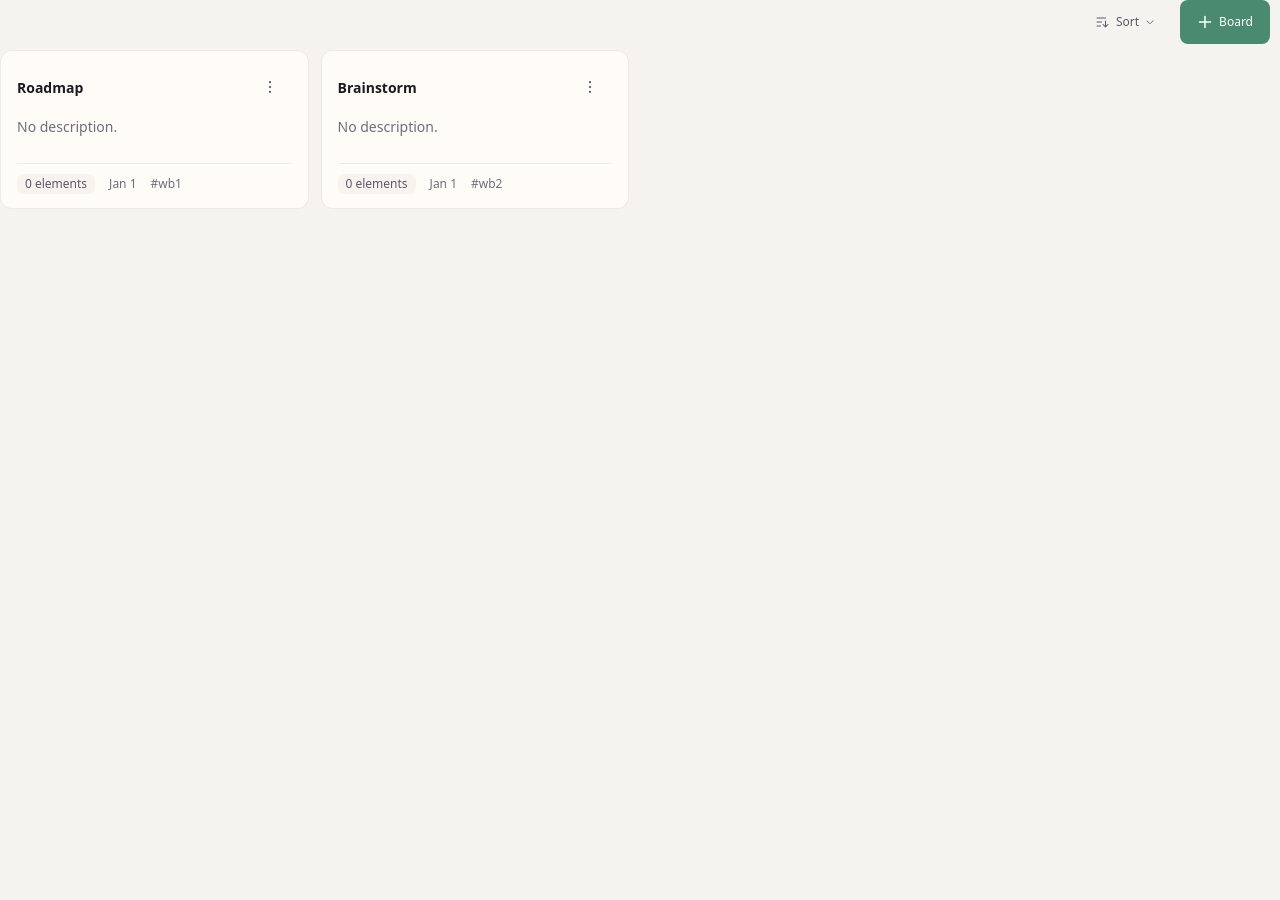
it: WhiteboardList narrow › kebab Edit opens the edit modal
The image size is (1280, 900).
Step 1. Click the button named "More actions for" → (270, 87), box [248,65,292,109]
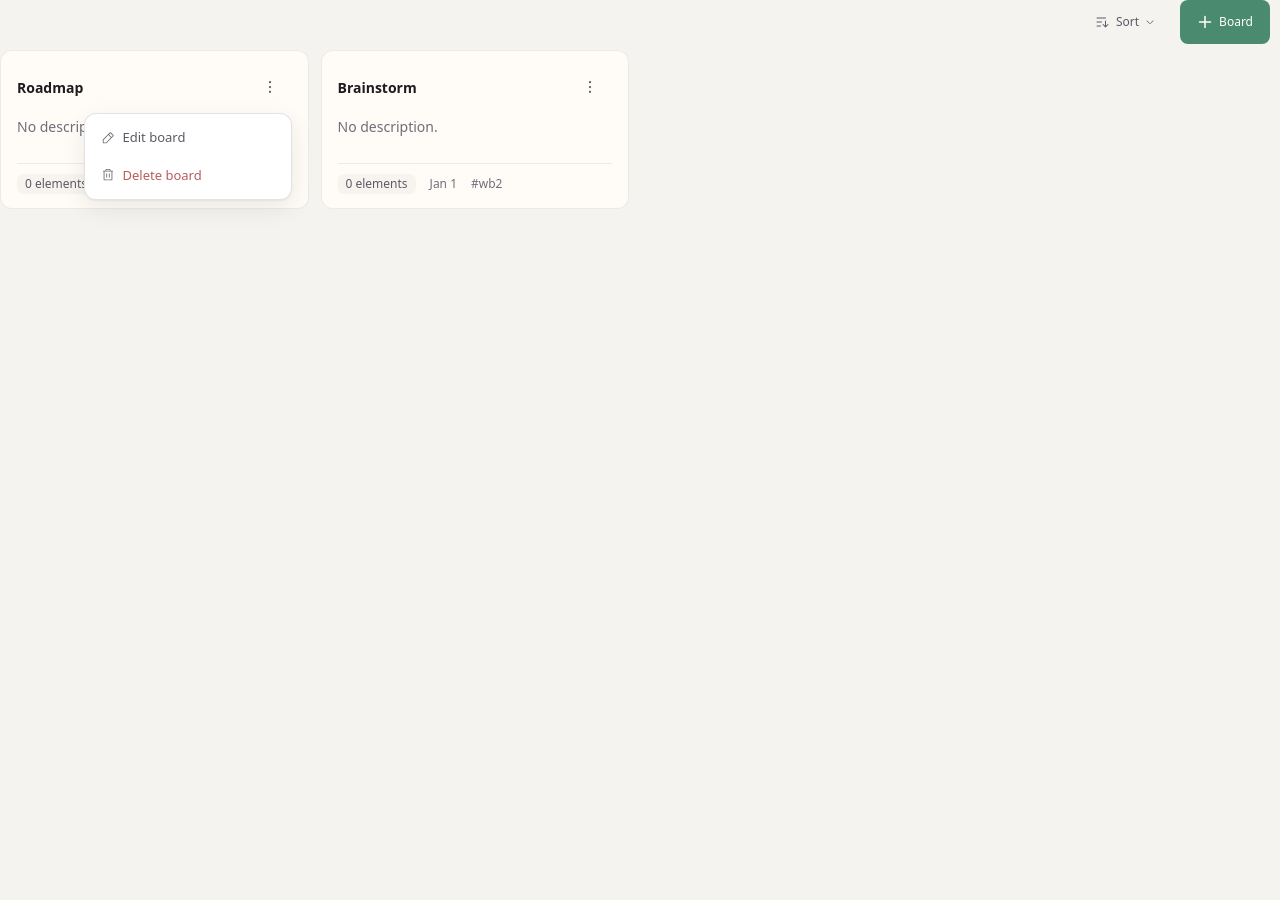
Step 2. Click the menu item "Edit board" → (188, 138), box [90,120,284,156]
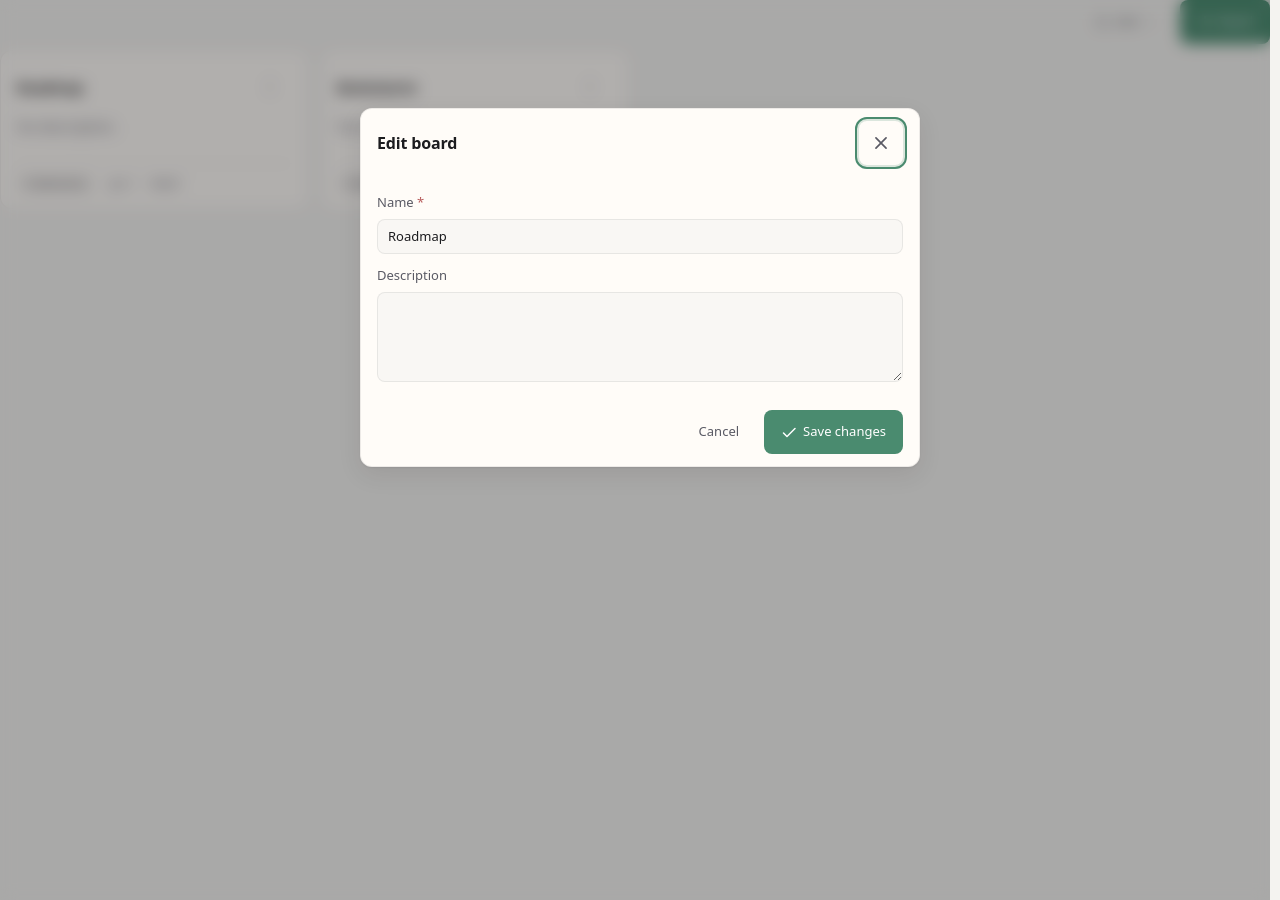
expect the text box labelled "Description" is empty: met, box [377,292,903,382]
expect the menu is gone: met
expect the dialog "Edit board" is shown: met, box [360,108,920,466]
